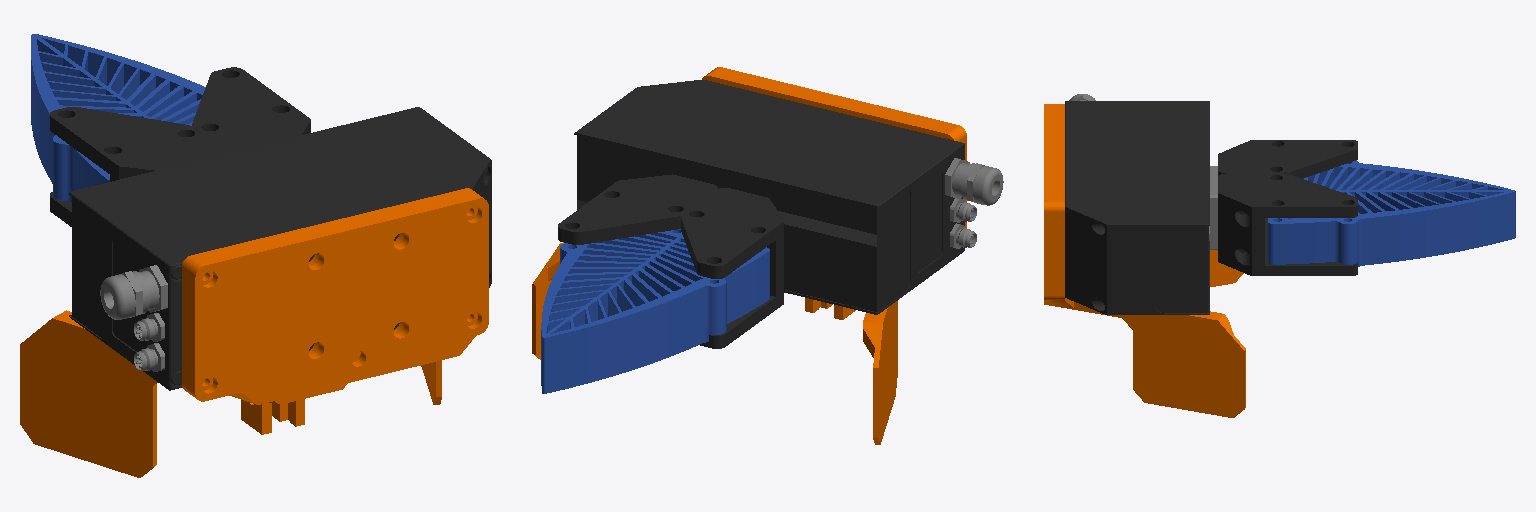
The robot description file, URDF, robot "ur5_cad_mount":
<!-- =================================================================================== --><!-- |    This document was autogenerated by xacro from /tmp/umi-ur-index/share/ur_description/urdf/ur.urdf.xacro | --><!-- |    EDITING THIS FILE BY HAND IS NOT RECOMMENDED                                 | --><!-- =================================================================================== --><robot name="ur5_cad_mount">
  <!--
    Base UR robot series xacro macro.

    NOTE this is NOT a URDF. It cannot directly be loaded by consumers
    expecting a flattened '.urdf' file. See the top-level '.xacro' for that
    (but note that .xacro must still be processed by the xacro command).

    This file models the base kinematic chain of a UR robot, which then gets
    parameterised by various configuration files to convert it into a UR3(e),
    UR5(e), UR10(e) or UR16e, etc.

    NOTE the default kinematic parameters (i.e., link lengths, frame locations,
    offsets, etc) do not correspond to any particular robot. They are defaults
    only. There WILL be non-zero offsets between the Forward Kinematics results
    in TF (i.e., robot_state_publisher) and the values reported by the Teach
    Pendant.

    For accurate (and robot-specific) transforms, the 'kinematics_parameters_file'
    parameter MUST point to a .yaml file containing the appropriate values for
    the targeted robot.

    If using the UniversalRobots/Universal_Robots_ROS_Driver, follow the steps
    described in the readme of that repository to extract the kinematic
    calibration from the controller and generate the required .yaml file.

    Main author of the migration to yaml configs Ludovic Delval.

    Contributors to previous versions (in no particular order)

     - Denis Stogl
     - Lovro Ivanov
     - Felix Messmer
     - Kelsey Hawkins
     - Wim Meeussen
     - Shaun Edwards
     - Nadia Hammoudeh Garcia
     - Dave Hershberger
     - G. vd. Hoorn
     - Philip Long
     - Dave Coleman
     - Miguel Prada
     - Mathias Luedtke
     - Marcel Schnirring
     - Felix von Drigalski
     - Felix Exner
     - Jimmy Da Silva
     - Ajit Krisshna N L
     - Muhammad Asif Rana
  -->
  <!-- create link fixed to the "world" -->
  <link name="world"/>
  <!-- links -  main serial chain -->
  <!-- base_link serves as the root of the robot's kinematic tree. It follows REP-103
        conventions (i.e., X+ forward, Y+ left, Z+ up).
        Since some kinematic solvers forbid having inertia values attached to a root link, we've
        added the base_link_inertia link that carries the visual, collision and inertia
        information.
    -->
  <link name="base_link"/>
  <link name="base_link_inertia">
    <visual>
      <origin rpy="0 0 3.141592653589793" xyz="0 0 0"/>
      <geometry>
        <mesh filename="package://ur_description/meshes/ur5/visual/base.dae"/>
      </geometry>
    </visual>
    <collision>
      <origin rpy="0 0 3.141592653589793" xyz="0 0 0"/>
      <geometry>
        <mesh filename="package://ur_description/meshes/ur5/collision/base.stl"/>
      </geometry>
    </collision>
    <inertial>
      <mass value="4.0"/>
      <origin rpy="0 0 0" xyz="0 0 0"/>
      <inertia ixx="0.00443333156" ixy="0.0" ixz="0.0" iyy="0.00443333156" iyz="0.0" izz="0.0072"/>
    </inertial>
  </link>
  <link name="shoulder_link">
    <visual>
      <origin rpy="0 0 3.141592653589793" xyz="0 0 0"/>
      <geometry>
        <mesh filename="package://ur_description/meshes/ur5/visual/shoulder.dae"/>
      </geometry>
    </visual>
    <collision>
      <origin rpy="0 0 3.141592653589793" xyz="0 0 0"/>
      <geometry>
        <mesh filename="package://ur_description/meshes/ur5/collision/shoulder.stl"/>
      </geometry>
    </collision>
    <inertial>
      <mass value="3.7"/>
      <origin rpy="0 0 0" xyz="0.0 -0.00193 -0.02561"/>
      <inertia ixx="0.014972358333333331" ixy="0" ixz="0" iyy="0.014972358333333331" iyz="0" izz="0.01040625"/>
    </inertial>
  </link>
  <link name="upper_arm_link">
    <visual>
      <origin rpy="1.5707963267948966 0 -1.5707963267948966" xyz="0 0 0.13585"/>
      <geometry>
        <mesh filename="package://ur_description/meshes/ur5/visual/upperarm.dae"/>
      </geometry>
    </visual>
    <collision>
      <origin rpy="1.5707963267948966 0 -1.5707963267948966" xyz="0 0 0.13585"/>
      <geometry>
        <mesh filename="package://ur_description/meshes/ur5/collision/upperarm.stl"/>
      </geometry>
    </collision>
    <inertial>
      <mass value="8.393"/>
      <origin rpy="0 1.570796326794897 0" xyz="-0.2125 0.0 0.11336"/>
      <inertia ixx="0.13388583541666665" ixy="0" ixz="0" iyy="0.13388583541666665" iyz="0" izz="0.0151074"/>
    </inertial>
  </link>
  <link name="forearm_link">
    <visual>
      <origin rpy="1.5707963267948966 0 -1.5707963267948966" xyz="0 0 0.0165"/>
      <geometry>
        <mesh filename="package://ur_description/meshes/ur5/visual/forearm.dae"/>
      </geometry>
    </visual>
    <collision>
      <origin rpy="1.5707963267948966 0 -1.5707963267948966" xyz="0 0 0.0165"/>
      <geometry>
        <mesh filename="package://ur_description/meshes/ur5/collision/forearm.stl"/>
      </geometry>
    </collision>
    <inertial>
      <mass value="2.33"/>
      <origin rpy="0 1.570796326794897 0" xyz="-0.24225 0.0 0.0265"/>
      <inertia ixx="0.031216803515624995" ixy="0" ixz="0" iyy="0.031216803515624995" iyz="0" izz="0.004095"/>
    </inertial>
  </link>
  <link name="wrist_1_link">
    <visual>
      <origin rpy="1.5707963267948966 0 0" xyz="0 0 -0.093"/>
      <geometry>
        <mesh filename="package://ur_description/meshes/ur5/visual/wrist1.dae"/>
      </geometry>
    </visual>
    <collision>
      <origin rpy="1.5707963267948966 0 0" xyz="0 0 -0.093"/>
      <geometry>
        <mesh filename="package://ur_description/meshes/ur5/collision/wrist1.stl"/>
      </geometry>
    </collision>
    <inertial>
      <mass value="1.219"/>
      <origin rpy="0 0 0" xyz="0.0 -0.01634 -0.0018"/>
      <inertia ixx="0.002013889583333333" ixy="0" ixz="0" iyy="0.002013889583333333" iyz="0" izz="0.0021942"/>
    </inertial>
  </link>
  <link name="wrist_2_link">
    <visual>
      <origin rpy="0 0 0" xyz="0 0 -0.095"/>
      <geometry>
        <mesh filename="package://ur_description/meshes/ur5/visual/wrist2.dae"/>
      </geometry>
    </visual>
    <collision>
      <origin rpy="0 0 0" xyz="0 0 -0.095"/>
      <geometry>
        <mesh filename="package://ur_description/meshes/ur5/collision/wrist2.stl"/>
      </geometry>
    </collision>
    <inertial>
      <mass value="1.219"/>
      <origin rpy="0 0 0" xyz="0.0 0.01634 -0.0018"/>
      <inertia ixx="0.0018310395833333333" ixy="0" ixz="0" iyy="0.0018310395833333333" iyz="0" izz="0.0021942"/>
    </inertial>
  </link>
  <link name="wrist_3_link">
    <visual>
      <origin rpy="1.5707963267948966 0 0" xyz="0 0 -0.0818"/>
      <geometry>
        <mesh filename="package://ur_description/meshes/ur5/visual/wrist3.dae"/>
      </geometry>
    </visual>
    <collision>
      <origin rpy="1.5707963267948966 0 0" xyz="0 0 -0.0818"/>
      <geometry>
        <mesh filename="package://ur_description/meshes/ur5/collision/wrist3.stl"/>
      </geometry>
    </collision>
    <inertial>
      <mass value="0.1879"/>
      <origin rpy="0 0 0" xyz="0.0 0.0 -0.001159"/>
      <inertia ixx="8.062475833333332e-05" ixy="0" ixz="0" iyy="8.062475833333332e-05" iyz="0" izz="0.0001321171875"/>
    </inertial>
  </link>
  <!-- base_joint fixes base_link to the environment -->
  <joint name="base_joint" type="fixed">
    <origin rpy="0 0 0" xyz="0 0 0"/>
    <parent link="world"/>
    <child link="base_link"/>
  </joint>
  <!-- joints - main serial chain -->
  <joint name="base_link-base_link_inertia" type="fixed">
    <parent link="base_link"/>
    <child link="base_link_inertia"/>
    <!-- 'base_link' is REP-103 aligned (so X+ forward), while the internal
           frames of the robot/controller have X+ pointing backwards.
           Use the joint between 'base_link' and 'base_link_inertia' (a dummy
           link/frame) to introduce the necessary rotation over Z (of pi rad).
      -->
    <origin rpy="0 0 3.141592653589793" xyz="0 0 0"/>
  </joint>
  <joint name="shoulder_pan_joint" type="revolute">
    <parent link="base_link_inertia"/>
    <child link="shoulder_link"/>
    <origin rpy="0 0 0" xyz="0 0 0.089159"/>
    <axis xyz="0 0 1"/>
    <limit effort="150.0" lower="-6.283185307179586" upper="6.283185307179586" velocity="3.141592653589793"/>
    <dynamics damping="0" friction="0"/>
  </joint>
  <joint name="shoulder_lift_joint" type="revolute">
    <parent link="shoulder_link"/>
    <child link="upper_arm_link"/>
    <origin rpy="1.570796327 0 0" xyz="0 0 0"/>
    <axis xyz="0 0 1"/>
    <limit effort="150.0" lower="-6.283185307179586" upper="6.283185307179586" velocity="3.141592653589793"/>
    <dynamics damping="0" friction="0"/>
  </joint>
  <joint name="elbow_joint" type="revolute">
    <parent link="upper_arm_link"/>
    <child link="forearm_link"/>
    <origin rpy="0 0 0" xyz="-0.425 0 0"/>
    <axis xyz="0 0 1"/>
    <limit effort="150.0" lower="-3.141592653589793" upper="3.141592653589793" velocity="3.141592653589793"/>
    <dynamics damping="0" friction="0"/>
  </joint>
  <joint name="wrist_1_joint" type="revolute">
    <parent link="forearm_link"/>
    <child link="wrist_1_link"/>
    <origin rpy="0 0 0" xyz="-0.39225 0 0.10915"/>
    <axis xyz="0 0 1"/>
    <limit effort="28.0" lower="-6.283185307179586" upper="6.283185307179586" velocity="3.141592653589793"/>
    <dynamics damping="0" friction="0"/>
  </joint>
  <joint name="wrist_2_joint" type="revolute">
    <parent link="wrist_1_link"/>
    <child link="wrist_2_link"/>
    <origin rpy="1.570796327 0 0" xyz="0 -0.09465 -1.941303950897609e-11"/>
    <axis xyz="0 0 1"/>
    <limit effort="28.0" lower="-6.283185307179586" upper="6.283185307179586" velocity="3.141592653589793"/>
    <dynamics damping="0" friction="0"/>
  </joint>
  <joint name="wrist_3_joint" type="revolute">
    <parent link="wrist_2_link"/>
    <child link="wrist_3_link"/>
    <origin rpy="1.570796326589793 3.141592653589793 3.141592653589793" xyz="0 0.0823 -1.688001216681175e-11"/>
    <axis xyz="0 0 1"/>
    <limit effort="28.0" lower="-6.283185307179586" upper="6.283185307179586" velocity="3.141592653589793"/>
    <dynamics damping="0" friction="0"/>
  </joint>
  <link name="ft_frame"/>
  <joint name="wrist_3_link-ft_frame" type="fixed">
    <parent link="wrist_3_link"/>
    <child link="ft_frame"/>
    <origin rpy="3.141592653589793 0 0" xyz="0 0 0"/>
  </joint>
  <!-- ROS-Industrial 'base' frame - base_link to UR 'Base' Coordinates transform -->
  <link name="base"/>
  <joint name="base_link-base_fixed_joint" type="fixed">
    <!-- Note the rotation over Z of pi radians - as base_link is REP-103
           aligned (i.e., has X+ forward, Y+ left and Z+ up), this is needed
           to correctly align 'base' with the 'Base' coordinate system of
           the UR controller.
      -->
    <origin rpy="0 0 3.141592653589793" xyz="0 0 0"/>
    <parent link="base_link"/>
    <child link="base"/>
  </joint>
  <!-- ROS-Industrial 'flange' frame - attachment point for EEF models -->
  <link name="flange"/>
  <joint name="wrist_3-flange" type="fixed">
    <parent link="wrist_3_link"/>
    <child link="flange"/>
    <origin rpy="0 -1.5707963267948966 -1.5707963267948966" xyz="0 0 0"/>
  </joint>
  <!-- ROS-Industrial 'tool0' frame - all-zeros tool frame -->
  <link name="tool0"/>
  <joint name="flange-tool0" type="fixed">
    <!-- default toolframe - X+ left, Y+ up, Z+ front -->
    <origin rpy="1.5707963267948966 0 1.5707963267948966" xyz="0 0 0"/>
    <parent link="flange"/>
    <child link="tool0"/>
  </joint>
  <link name="umi_tcp_link"/>
  <joint name="tool0_to_umi_tcp_link" type="fixed">
    <origin xyz="0 -0.003600 0.224785782" rpy="0 0 0"/>
    <parent link="tool0"/>
    <child link="umi_tcp_link"/>
  </joint>

  <material name="cad_part_1"><color rgba="0.2158605 0.2158605 0.2158605 1"/></material>
  <material name="cad_parts_2_to_6"><color rgba="0.5271151 0.5271151 0.5271151 1"/></material>
  <material name="cad_finger_holders"><color rgba="0.2122308 0.2122308 0.2122308 1"/></material>
  <material name="cad_gripper_mount"><color rgba="0.9559733 0.4677838 0.0003035 1"/></material>
  <material name="cad_soft_fingers"><color rgba="0.2313725 0.3803922 0.7058824 1"/></material>
  <link name="mount_link">
    <visual name="gripper_mount">
      <geometry><mesh filename="package://ur_umi_real/meshes/mount.stl"/></geometry>
      <material name="cad_gripper_mount"/>
    </visual>
    <visual name="gopro">
      <origin xyz="-0.01265 -0.0223 0.08185" rpy="0 0 0"/>
      <geometry>
        <mesh filename="package://ur_umi_real/meshes/gopro.stl"/>
      </geometry>
    </visual>
    <collision>
      <geometry>
        <mesh filename="package://ur_umi_real/meshes/mount.stl"/>
      </geometry>
    </collision>
  </link>
  <joint name="ur5_to_mount" type="fixed">
    <origin xyz="0 0 0" rpy="-1.5707963267948966 0 3.141592653589793"/>
    <parent link="tool0"/>
    <child link="mount_link"/>
  </joint>
  <link name="fixed_mount_link">
    <visual name="Part 1">
      <geometry><mesh filename="package://ur_umi_real/meshes/part_1.stl"/></geometry>
      <material name="cad_part_1"/>
    </visual>
    <visual name="Part 2">
      <geometry><mesh filename="package://ur_umi_real/meshes/part_2.stl"/></geometry>
      <material name="cad_parts_2_to_6"/>
    </visual>
    <visual name="Part 3">
      <geometry><mesh filename="package://ur_umi_real/meshes/part_3.stl"/></geometry>
      <material name="cad_parts_2_to_6"/>
    </visual>
    <visual name="Part 4">
      <geometry><mesh filename="package://ur_umi_real/meshes/part_4.stl"/></geometry>
      <material name="cad_parts_2_to_6"/>
    </visual>
    <visual name="Part 5">
      <geometry><mesh filename="package://ur_umi_real/meshes/part_5.stl"/></geometry>
      <material name="cad_parts_2_to_6"/>
    </visual>
    <visual name="Part 6">
      <geometry><mesh filename="package://ur_umi_real/meshes/part_6.stl"/></geometry>
      <material name="cad_parts_2_to_6"/>
    </visual>
  </link>
  <joint name="mount_to_fixed_mount" type="fixed">
    <origin xyz="0 0 0" rpy="0 0 0"/>
    <parent link="mount_link"/>
    <child link="fixed_mount_link"/>
  </joint>
  <link name="left_jaw_link">
    <visual name="finger_holder_left">
      <geometry><mesh filename="package://ur_umi_real/meshes/finger_holder_left.stl"/></geometry>
      <material name="cad_finger_holders"/>
    </visual>
    <visual name="left_finger">
      <origin xyz="0.0008625831240207 -0.101421295298399 -0.0093" rpy="-1.5707963267948966 0 0"/>
      <geometry><mesh filename="package://ur_umi_real/meshes/left_finger.stl"/></geometry>
      <material name="cad_soft_fingers"/>
    </visual>
  </link>
  <joint name="left_jaw_joint" type="prismatic">
    <origin xyz="0 0 0" rpy="0 0 0"/>
    <parent link="fixed_mount_link"/>
    <child link="left_jaw_link"/>
    <axis xyz="-1 0 0"/>
    <limit lower="0" upper="0.055" effort="0" velocity="0"/>
  </joint>
  <link name="right_jaw_link">
    <visual name="finger_holder_right">
      <geometry><mesh filename="package://ur_umi_real/meshes/finger_holder_right.stl"/></geometry>
      <material name="cad_finger_holders"/>
    </visual>
    <visual name="right_finger">
      <origin xyz="-0.000862583124020702 -0.101421295298399 -0.0093" rpy="-1.5707963267948966 0 0"/>
      <geometry><mesh filename="package://ur_umi_real/meshes/right_finger.stl"/></geometry>
      <material name="cad_soft_fingers"/>
    </visual>
  </link>
  <joint name="right_jaw_joint" type="prismatic">
    <origin xyz="0 0 0" rpy="0 0 0"/>
    <parent link="fixed_mount_link"/>
    <child link="right_jaw_link"/>
    <axis xyz="1 0 0"/>
    <limit lower="0" upper="0.055" effort="0" velocity="0"/>
  </joint>
</robot>

--- Render facts (derived) ---
3 views of the same robot in one strip: view 1: azimuth 30°, elevation 25°; view 2: azimuth 150°, elevation 25°; view 3: azimuth 270°, elevation 25° (orthographic).
Robot: ur5_cad_mount — 18 links, 17 joints (6 revolute, 2 prismatic, 9 fixed); root link world; default pose: all joints at 0.
Visible links, largest first — view 1: mount_link, fixed_mount_link, left_jaw_link, right_jaw_link; view 2: fixed_mount_link, left_jaw_link, right_jaw_link, mount_link; view 3: fixed_mount_link, right_jaw_link, mount_link, left_jaw_link.
Link boxes in pixels (box(x1,y1,x2,y2)): mount_link: box(20, 188, 488, 477); fixed_mount_link: box(69, 107, 491, 390); left_jaw_link: box(31, 34, 227, 226); right_jaw_link: box(32, 34, 310, 152); fixed_mount_link: box(574, 79, 1003, 314); left_jaw_link: box(542, 188, 783, 393); right_jaw_link: box(541, 174, 717, 393); mount_link: box(532, 67, 966, 444); fixed_mount_link: box(1065, 94, 1217, 314); right_jaw_link: box(1218, 173, 1515, 275); mount_link: box(1044, 104, 1245, 417); left_jaw_link: box(1218, 140, 1514, 231).
Size in the robot's own frame: 0.1762 by 0.2348 by 0.105 metres.
Meshes: 19 distinct files referenced, 11 mesh visuals loaded (11 binary STL); not drawn: 8 (reference not matched to a file when rendering).
